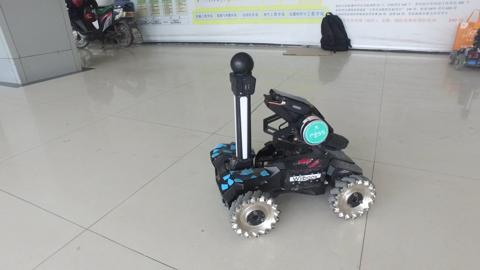bag: (318, 11, 353, 55)
chariot: (207, 50, 377, 241)
